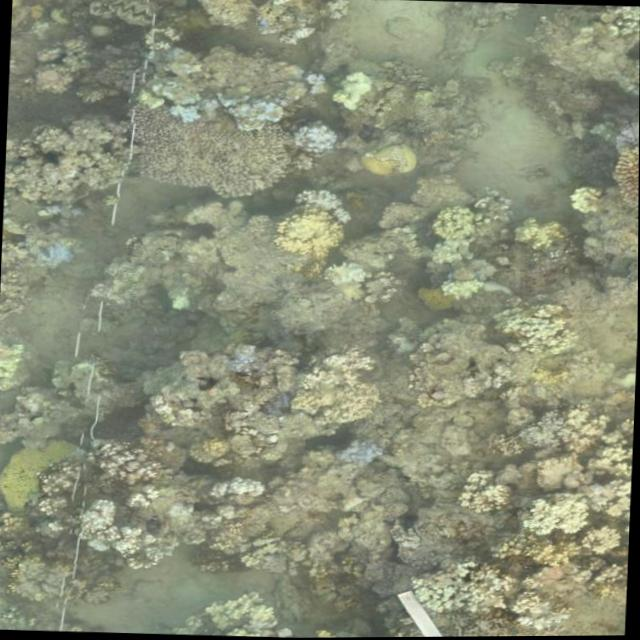Bleached Coral: (518, 402, 632, 559), (410, 560, 581, 638), (70, 501, 174, 576), (495, 301, 579, 358), (453, 462, 515, 523), (281, 182, 358, 230), (285, 105, 345, 166), (190, 470, 281, 504), (416, 203, 484, 248), (503, 215, 573, 257), (328, 61, 383, 113), (213, 96, 287, 134), (140, 39, 199, 84), (155, 91, 211, 131), (316, 261, 377, 297), (568, 185, 609, 225), (293, 63, 337, 98), (435, 277, 488, 305)
